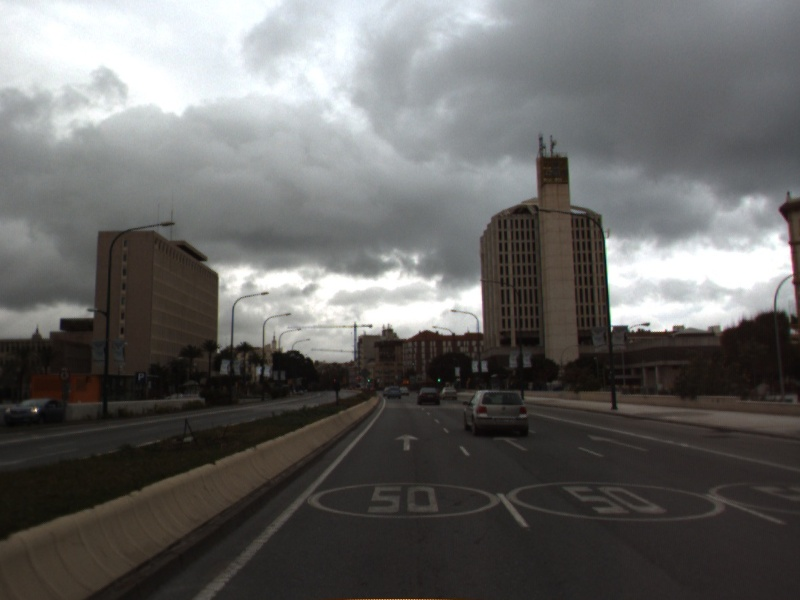STRAIGHT: (585, 432, 651, 454), (491, 434, 531, 453), (393, 431, 421, 453)
